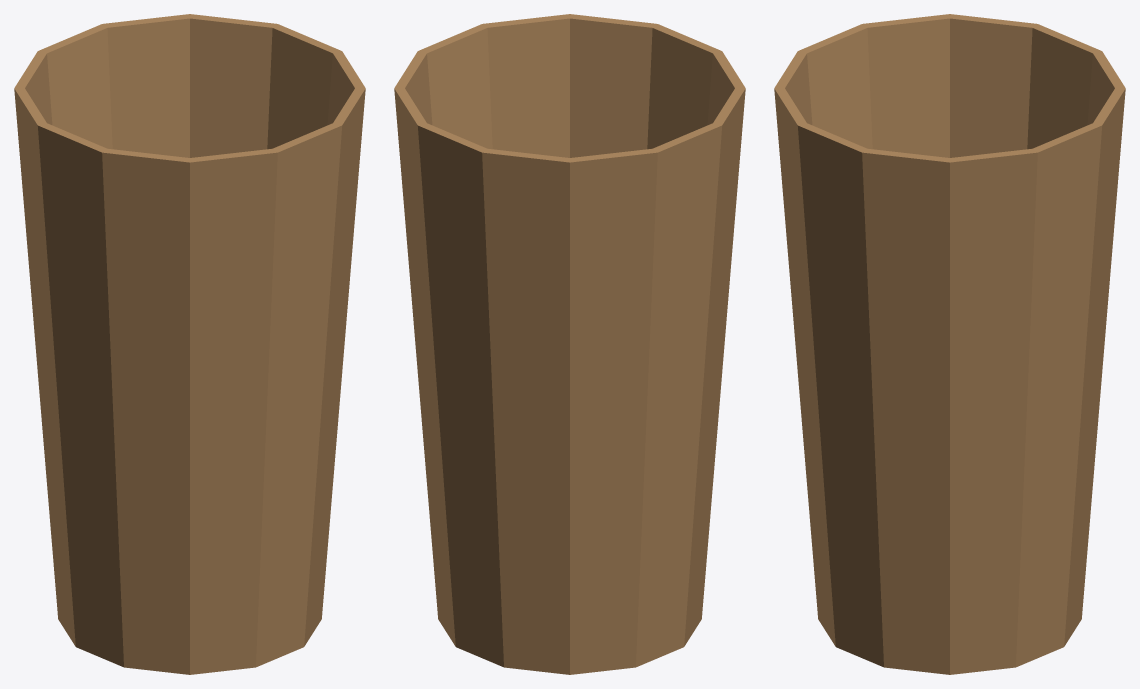
Rendered from PaperCup_Empty.glb.
3 renders of one model, left to right at view 1: azimuth 30°, elevation 25°; view 2: azimuth 150°, elevation 25°; view 3: azimuth 270°, elevation 25°, orthographic.
Parts seen in each view (by area): view 1: PaperCup_Empty; view 2: PaperCup_Empty; view 3: PaperCup_Empty.
Boxes of the visible parts, box(x1,y1,x2,y2) form: PaperCup_Empty: box(14, 14, 365, 674); PaperCup_Empty: box(394, 14, 745, 674); PaperCup_Empty: box(774, 14, 1125, 674).
Bounding box in the file's own units: 0.066 × 0.11 × 0.066.
